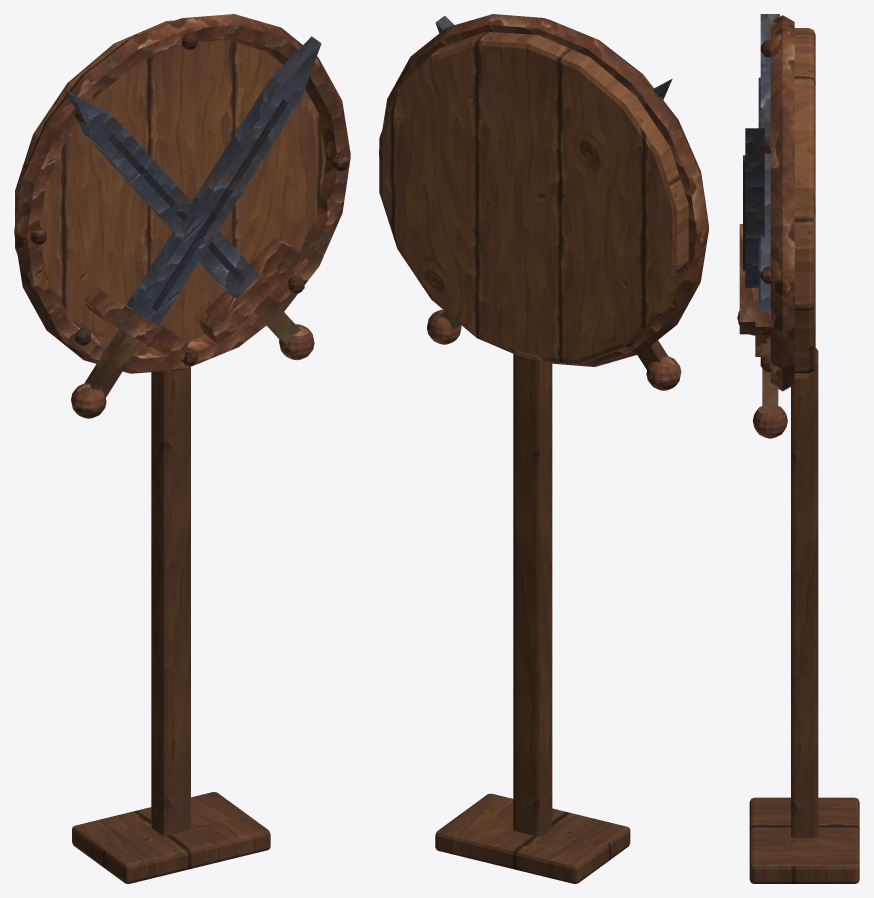
File: crossed_swords.glb
3 renders of one model, left to right at view 1: azimuth 30°, elevation 25°; view 2: azimuth 150°, elevation 25°; view 3: azimuth 270°, elevation 25°, orthographic. The views are drawn at different scales.
Visible parts, largest first — view 1: model; view 2: model; view 3: model.
Part boxes in pixels (left/top/right/bottom): model: left=14, top=14, right=350, bottom=883; model: left=379, top=14, right=708, bottom=883; model: left=737, top=14, right=859, bottom=883.
Size of the model in its own units: 0.69 by 1.64 by 0.2225.
7 materials, 7 textured.
